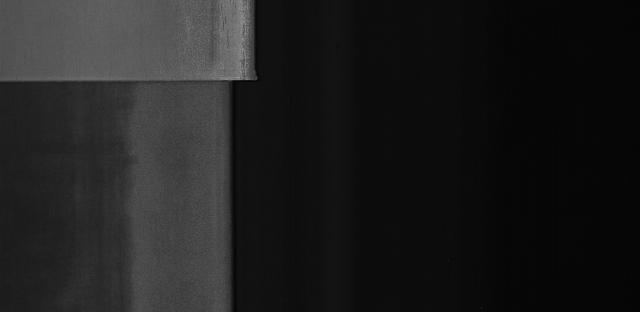welding_line: (0, 70, 281, 101)
